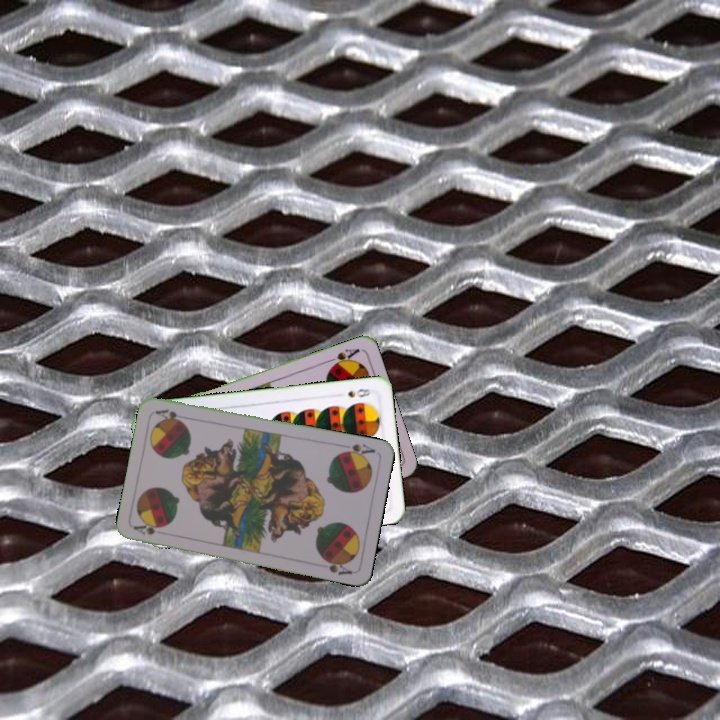S8: (343, 384, 373, 400)
SA: (323, 344, 362, 370), (337, 440, 378, 460), (130, 521, 164, 538)
